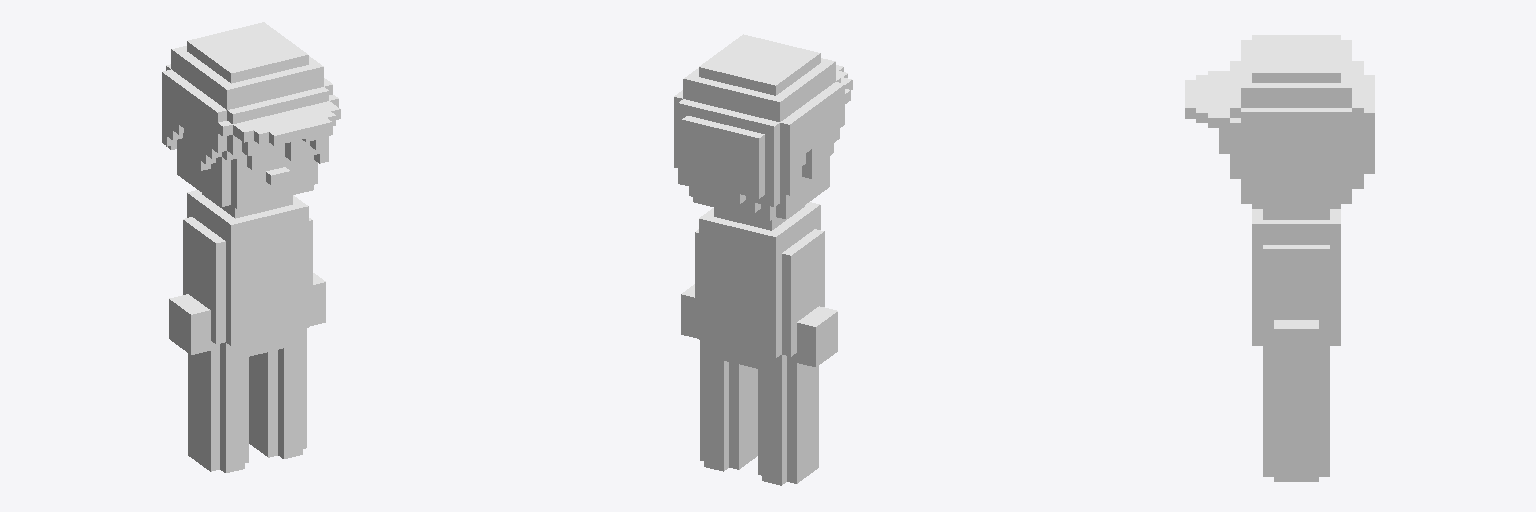
The model's file is funcionario-1.obj.
The picture shows the model from 3 angles: view 1: azimuth 30°, elevation 25°; view 2: azimuth 150°, elevation 25°; view 3: azimuth 270°, elevation 25°; orthographic projection.
Parts seen in each view (by area): view 1: object 1; view 2: object 1; view 3: object 1.
Part boxes in pixels (x1,y1,x2,y2): object 1: (162,22,340,472); object 1: (674,34,852,485); object 1: (1185,35,1374,481).
Bounding box in the file's own units: 1.4 × 4 × 1.7.